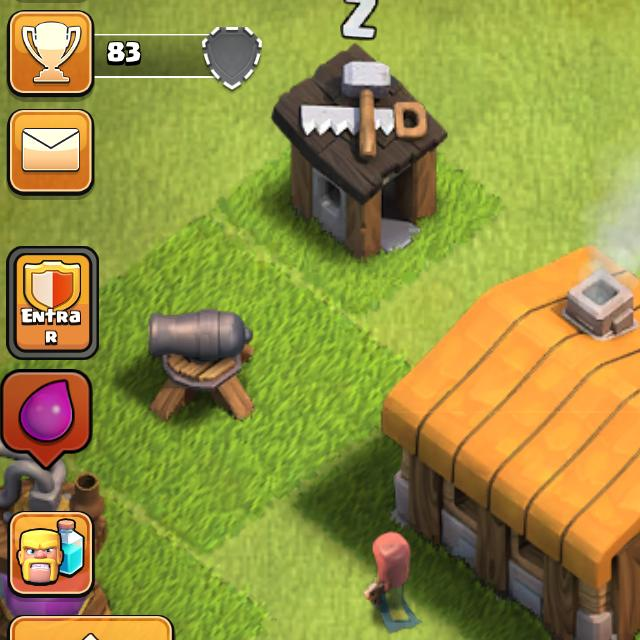Canhao: (132, 288, 266, 440)
FullElixir: (0, 371, 90, 468)
